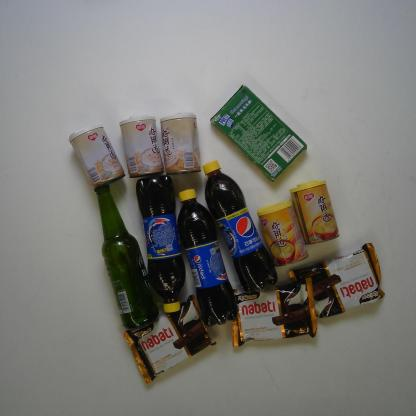Alcohol: (94, 183, 158, 328)
Canned Food: (68, 123, 126, 191), (257, 200, 310, 266), (288, 180, 340, 244), (118, 115, 164, 178), (158, 112, 202, 176)
Dessert: (208, 83, 308, 182), (124, 295, 217, 386), (290, 242, 385, 318), (226, 278, 317, 348)
Drink: (203, 160, 279, 292), (177, 188, 240, 326), (135, 177, 186, 313)
